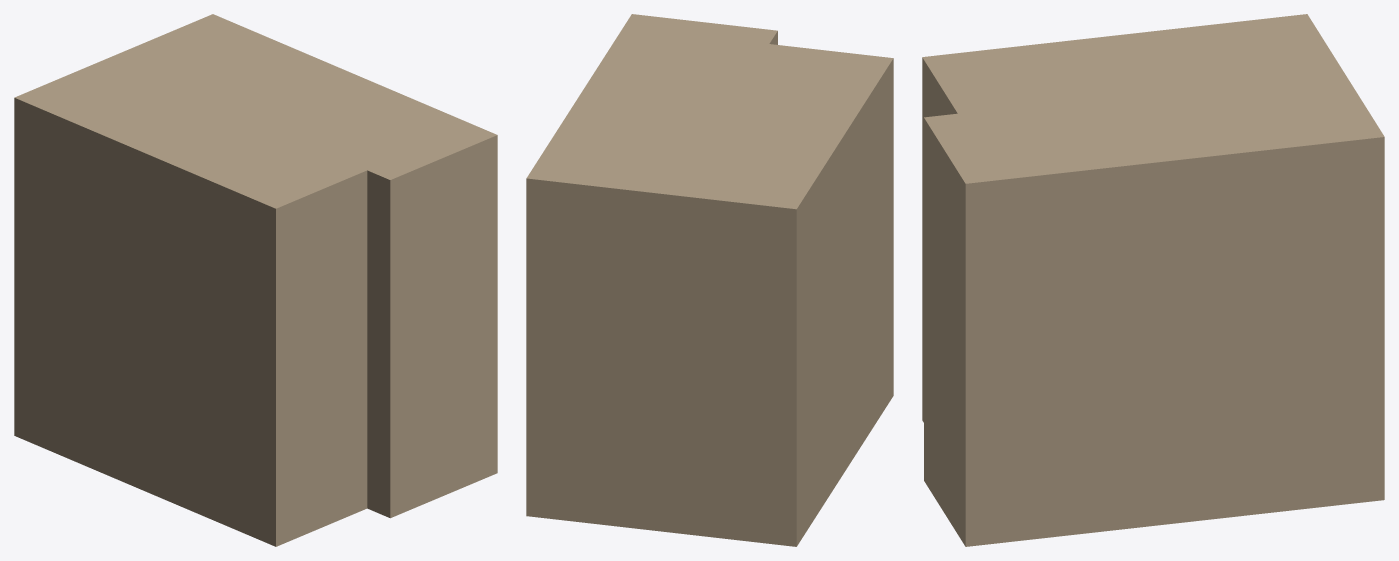
File: bld_106456447.dae
3 views of the same model, side by side, from view 1: azimuth 30°, elevation 25°; view 2: azimuth 150°, elevation 25°; view 3: azimuth 270°, elevation 25° (orthographic). The views are drawn at different scales.
Visible parts, largest first — view 1: bld_106456447; view 2: bld_106456447; view 3: bld_106456447.
Boxes of the visible parts, x1,y1,x2,y2 form: bld_106456447: [14, 14, 497, 546]; bld_106456447: [526, 14, 893, 546]; bld_106456447: [922, 14, 1384, 546].
Bounding box in the file's own units: 8.03 × 9.24 × 8.
